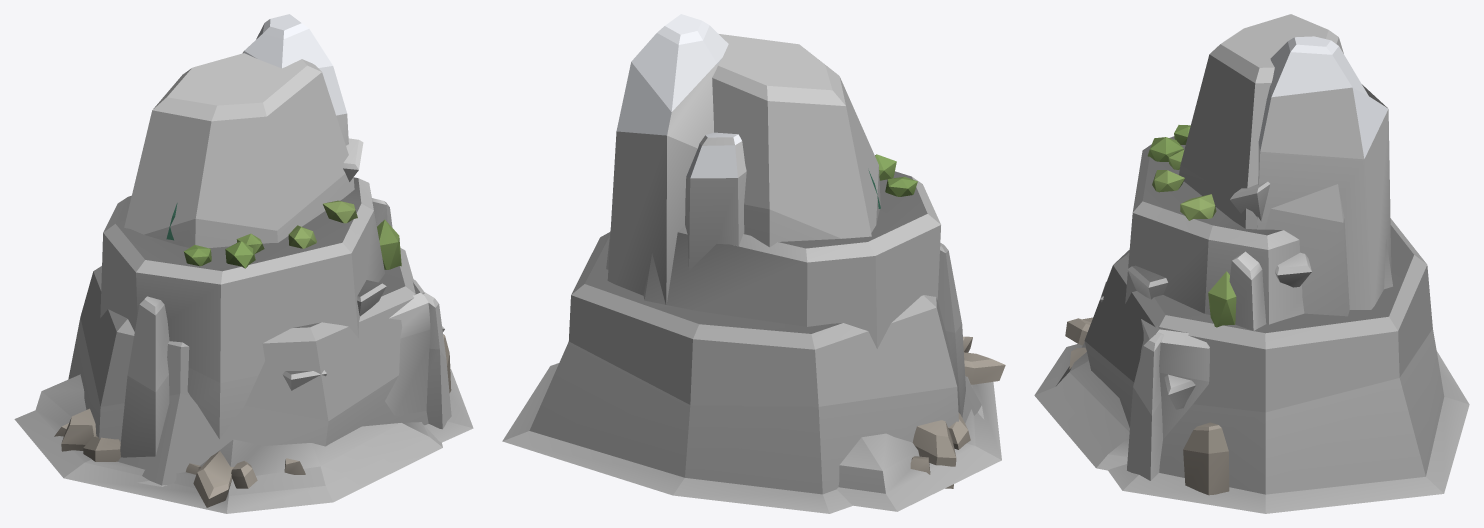
Rendered from crag-fallen-3.glb.
3 renders of one model, left to right at view 1: azimuth 30°, elevation 25°; view 2: azimuth 150°, elevation 25°; view 3: azimuth 270°, elevation 25°, orthographic. The views are drawn at different scales.
Parts seen in each view (by area): view 1: SaddleBlock, SaddleBase, CragTable, CragBase, CragRib1, CragStep, CragTower, CragRib3, CragScree4, CragScree1, SaddleShrub1, CragScree2 (+5 smaller); view 2: SaddleBase, SaddleBlock, CragTable, CragTower, CragBase, CragShoulder, CragRib1, CragScree1, CragScree4; view 3: SaddleBase, CragTower, SaddleBlock, CragTable, CragBase, CragRib3, CragStep, SaddleScree3, CragRib2, SaddleShrub1, CragShelf4, CragShelf6 (+6 smaller).
Part boxes in pixels (<box>): SaddleBlock: <box>124,53,354,248</box>; SaddleBase: <box>68,248,473,486</box>; CragTable: <box>100,177,384,438</box>; CragBase: <box>14,374,442,513</box>; CragRib1: <box>120,296,169,457</box>; CragStep: <box>385,279,430,416</box>; CragTower: <box>242,14,348,145</box>; CragRib3: <box>422,292,451,429</box>; CragScree4: <box>193,451,233,507</box>; CragScree1: <box>61,408,96,451</box>; SaddleShrub1: <box>377,219,401,269</box>; CragScree2: <box>83,436,120,461</box>; SaddleBase: <box>502,232,984,513</box>; SaddleBlock: <box>606,34,880,269</box>; CragTable: <box>643,171,940,348</box>; CragTower: <box>607,14,728,304</box>; CragBase: <box>837,376,1001,511</box>; CragShoulder: <box>685,132,746,270</box>; CragRib1: <box>937,243,965,417</box>; CragScree1: <box>912,420,956,488</box>; CragScree4: <box>964,352,1005,384</box>; SaddleBase: <box>1084,218,1469,513</box>; CragTower: <box>1257,36,1391,309</box>; SaddleBlock: <box>1179,14,1349,316</box>; CragTable: <box>1125,136,1392,324</box>; CragBase: <box>1034,342,1129,470</box>; CragRib3: <box>1127,332,1164,480</box>; CragStep: <box>1140,319,1209,439</box>; SaddleScree3: <box>1183,422,1229,495</box>; CragRib2: <box>1229,251,1266,330</box>; SaddleShrub1: <box>1208,271,1236,327</box>; CragShelf4: <box>1230,181,1270,220</box>; CragShelf6: <box>1275,252,1311,287</box>.
Bounding box in the file's own units: 1.82 × 1.65 × 1.57.
